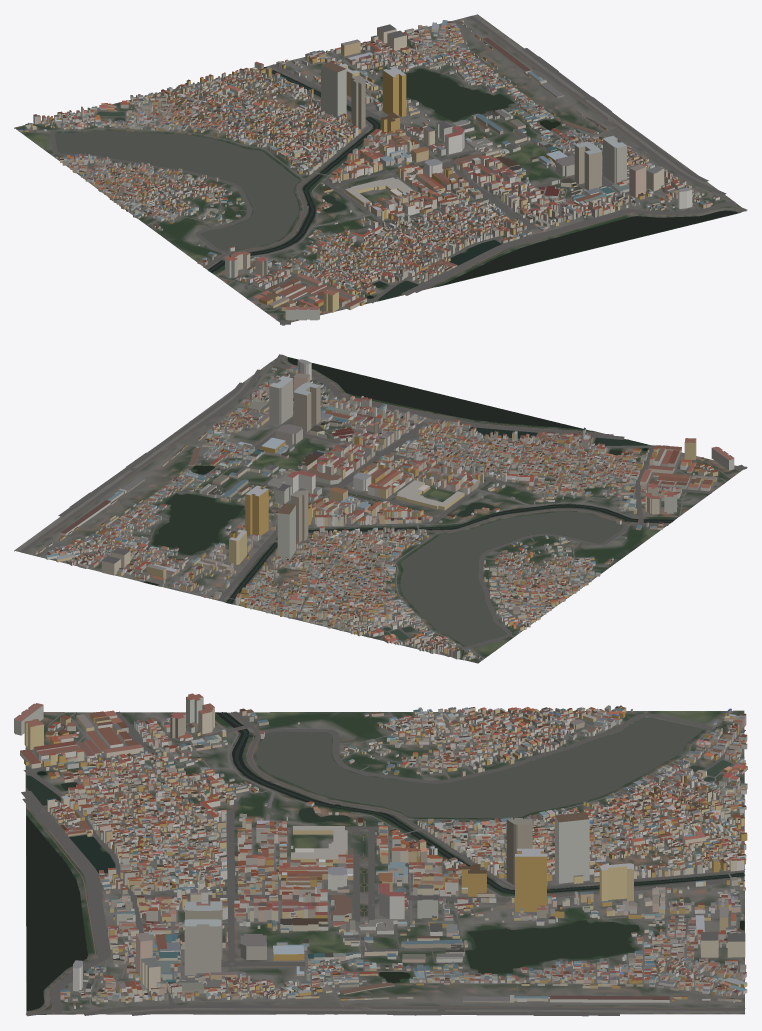
3 renders of one model, top to bottom at view 1: azimuth 30°, elevation 25°; view 2: azimuth 150°, elevation 25°; view 3: azimuth 270°, elevation 25°, orthographic. The views are drawn at different scales.
Visible parts, largest first — view 1: buildings, ground, water, roads; view 2: buildings, ground, water, roads; view 3: buildings, ground, water, roads.
Boxes of the visible parts, <box> form: buildings: <box>18,19,719,320</box>; ground: <box>14,14,746,322</box>; water: <box>33,67,738,300</box>; roads: <box>18,15,747,325</box>; buildings: <box>35,359,734,660</box>; ground: <box>14,355,742,663</box>; water: <box>144,357,674,659</box>; roads: <box>19,354,747,660</box>; buildings: <box>14,693,747,1008</box>; ground: <box>25,710,744,1014</box>; water: <box>26,712,744,1010</box>; roads: <box>21,710,745,1016</box>.
Bounding box in the file's own units: 1416 × 137 × 1432.
